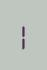one: (19, 19, 25, 50)
